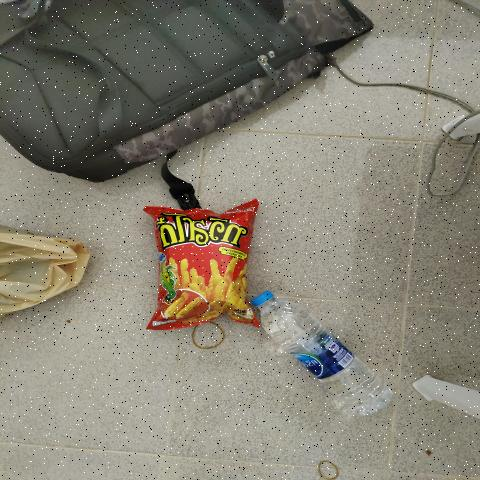crystal: (254, 291, 382, 402)
twisco: (168, 215, 238, 318)
